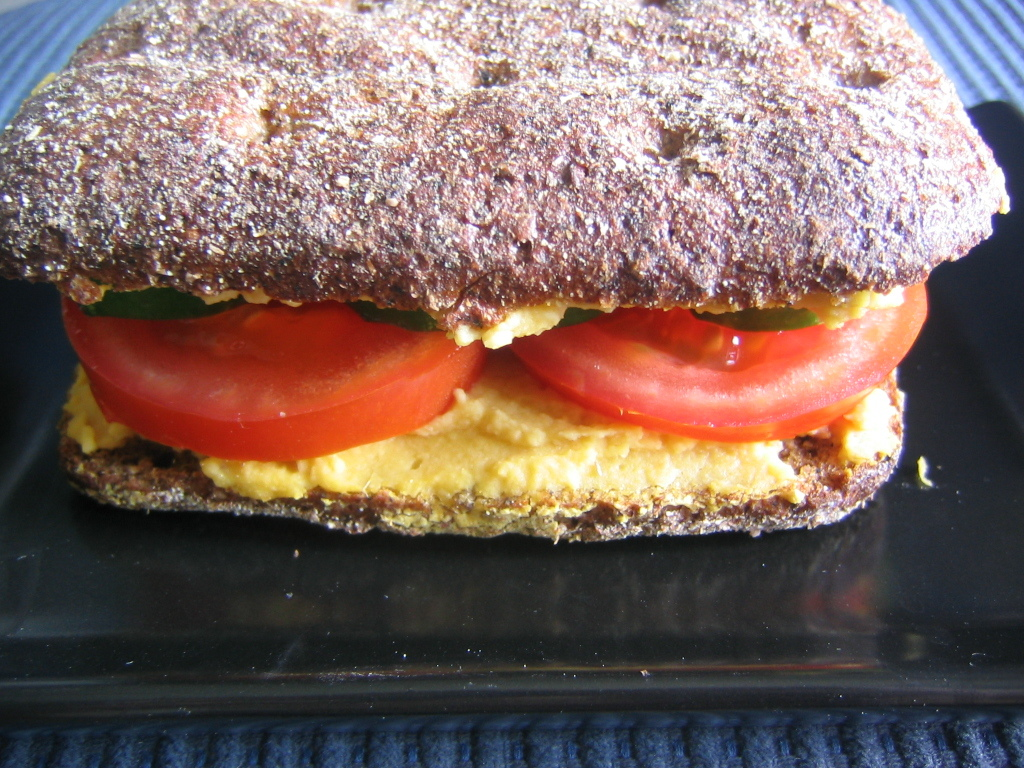Hamburger: (0, 0, 1008, 546)
